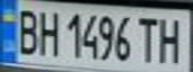1: (60, 9, 84, 58)
4: (78, 10, 100, 60)
6: (112, 12, 136, 62)
9: (97, 11, 118, 61)
B: (9, 4, 42, 56)
H: (154, 13, 190, 64), (33, 6, 60, 57)
T: (133, 14, 163, 63)
